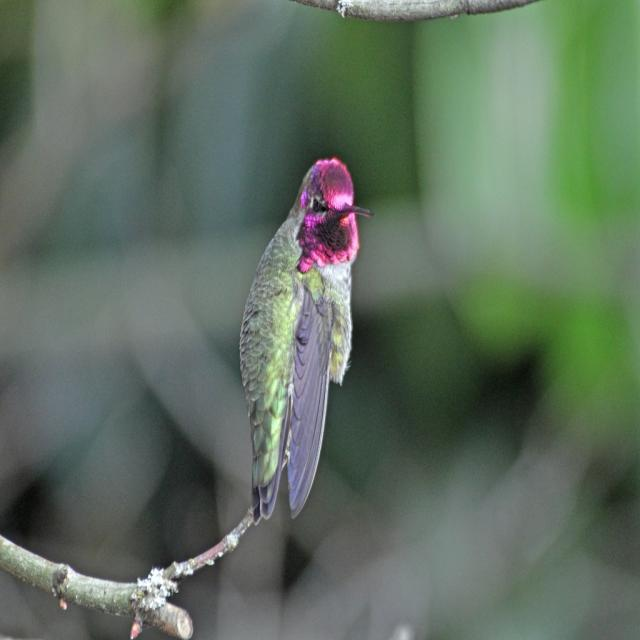bird: (235, 148, 367, 576)
